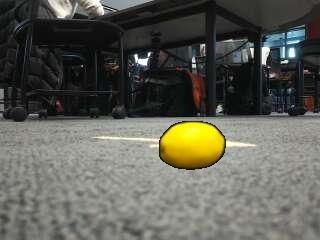lemon: (161, 122, 225, 169)
